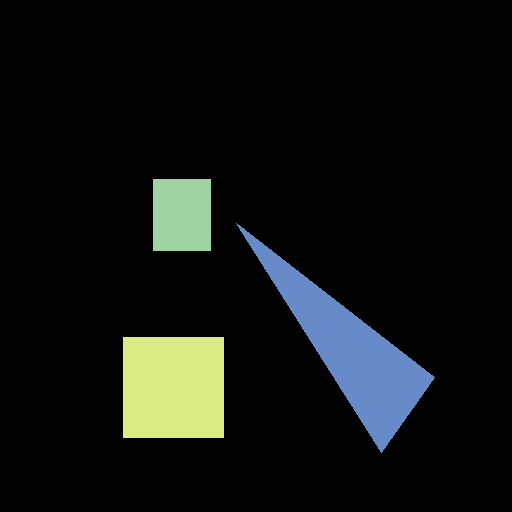rectangle: (153, 179, 210, 250)
square: (123, 337, 223, 437)
triangle: (236, 223, 434, 452)
